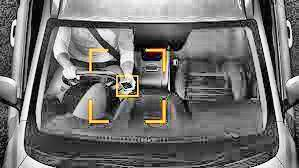seatbelt: (68, 28, 121, 69)
